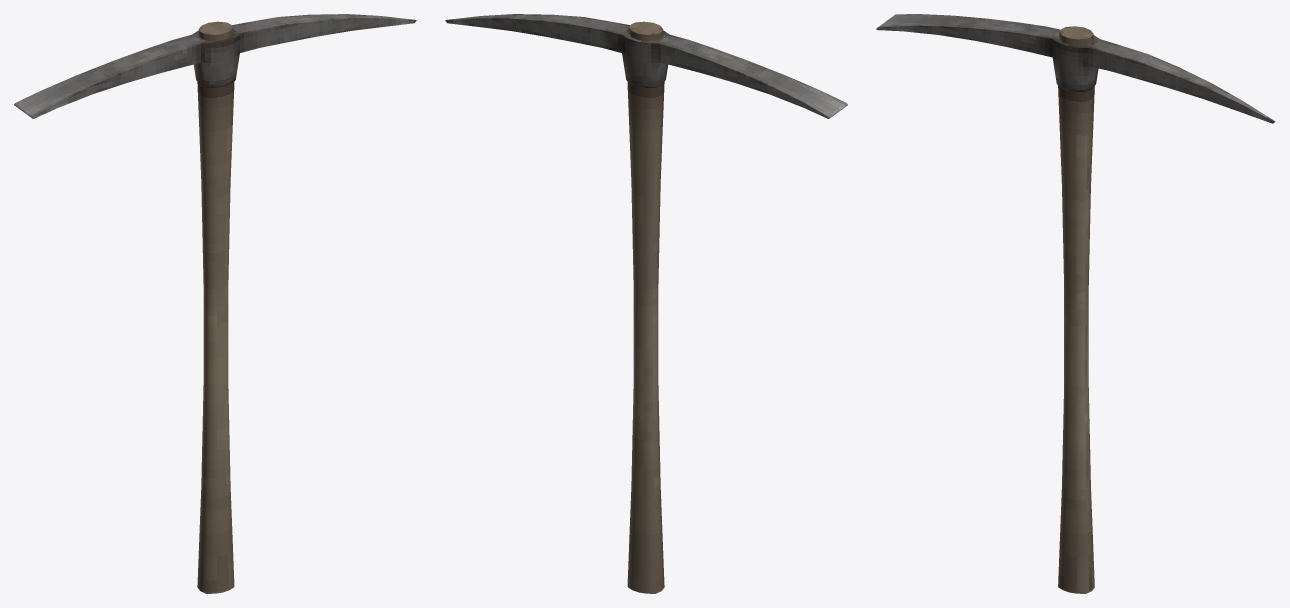
File: objects_un_pickaxe01.gltf
3 views of the same model, side by side, from view 1: azimuth 30°, elevation 25°; view 2: azimuth 150°, elevation 25°; view 3: azimuth 330°, elevation 25° (orthographic).
Visible parts, largest first — view 1: axe01_shape:objects_un_pickaxe01_obj01; view 2: axe01_shape:objects_un_pickaxe01_obj01; view 3: axe01_shape:objects_un_pickaxe01_obj01.
Part boxes in pixels (x1,y1,x2,y2): axe01_shape:objects_un_pickaxe01_obj01: [14, 14, 416, 593]; axe01_shape:objects_un_pickaxe01_obj01: [445, 14, 847, 593]; axe01_shape:objects_un_pickaxe01_obj01: [876, 14, 1275, 593].
Size of what is drawn, in the model's own units: 0.677 by 0.92 by 0.0562.
Materials: 1 (1 with a texture image).
